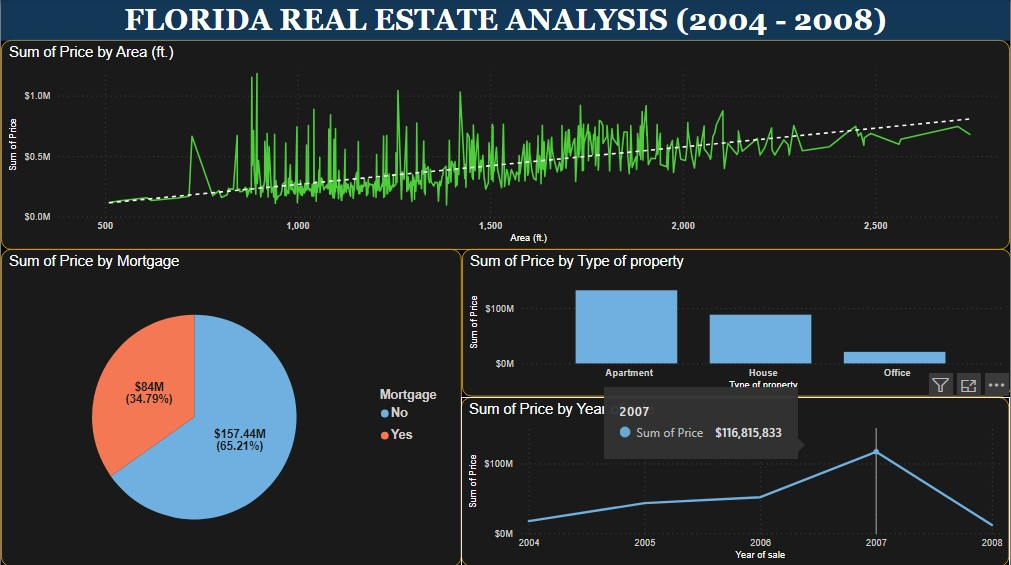

The page's visual inventory and layout, read from the dashboard file:
{"tool":"powerbi","page":{"name":"Page 1","canvas":[1280,720],"ordinal":0},"visuals":[{"type":"lineChart","fields":{"Category":["Real Estate Florida.Area (ft.)"],"Y":["Sum(Real Estate Florida.Price)"]},"box":[0,52.4,1278.6,266.5],"z":0},{"type":"pieChart","fields":{"Category":["Real Estate Florida.Mortgage"],"Y":["Sum(Real Estate Florida.Price)"]},"box":[0,317.5,584,402.6],"z":1000},{"type":"columnChart","fields":{"Category":["Real Estate Florida.Type of property"],"Y":["Sum(Real Estate Florida.Price)"]},"box":[584,317.5,696,187.1],"z":2000},{"type":"lineChart","fields":{"Y":["Sum(Real Estate Florida.Price)"],"Category":["Real Estate Florida.Year of sale"]},"box":[583.6,505.1,695.1,214.7],"z":3000},{"type":"textbox","box":[0,0,1278.8,52.8],"z":4000}]}

Visuals, with their boxes in screenshot pixels (x1, y1, x2, y2), scaled from the page's 1280x720 canvas onto the 1011x565 screenshot:
lineChart - Real Estate Florida.Area (ft.) x Sum(Real Estate Florida.Price): bbox=(0, 41, 1010, 250)
pieChart - Real Estate Florida.Mortgage x Sum(Real Estate Florida.Price): bbox=(0, 249, 461, 564)
columnChart - Real Estate Florida.Type of property x Sum(Real Estate Florida.Price): bbox=(461, 249, 1010, 396)
lineChart - Sum(Real Estate Florida.Price) x Real Estate Florida.Year of sale: bbox=(461, 396, 1010, 564)
textbox: bbox=(0, 0, 1010, 41)
